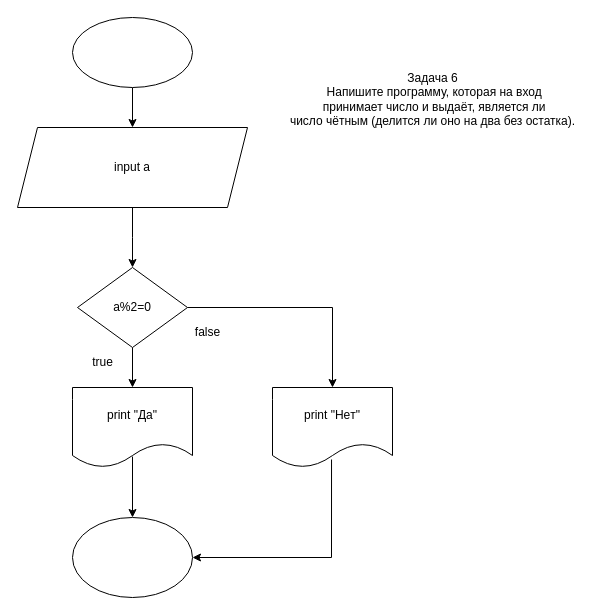
Image size: 605x615. Some labels were removed from this diagram. The shapes that lost their labels are listed below. From the top down, each one's centre as x and y in pixels, then its label:
pixel 132 52: Start
pixel 132 557: End
